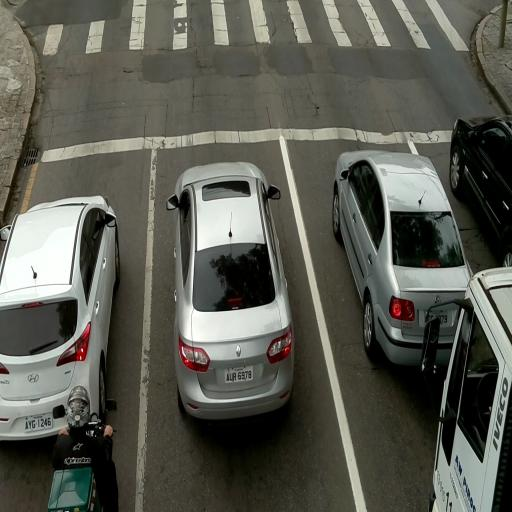car: (167, 163, 291, 421), (0, 191, 122, 453), (333, 149, 468, 367), (448, 115, 512, 266)
motorcycle: (48, 388, 117, 512)
others: (423, 269, 512, 510)
